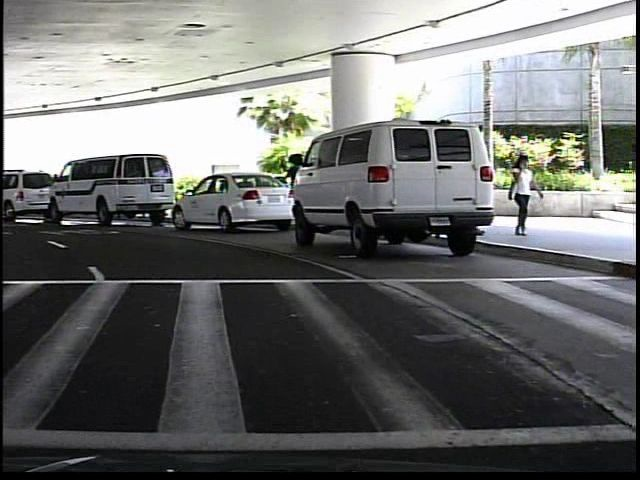person: (503, 148, 540, 242)
